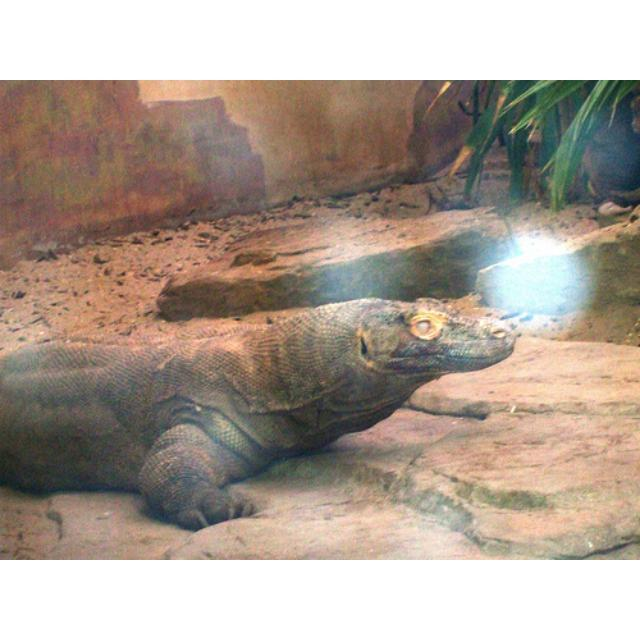KomodoDragon: (1, 295, 516, 531)
